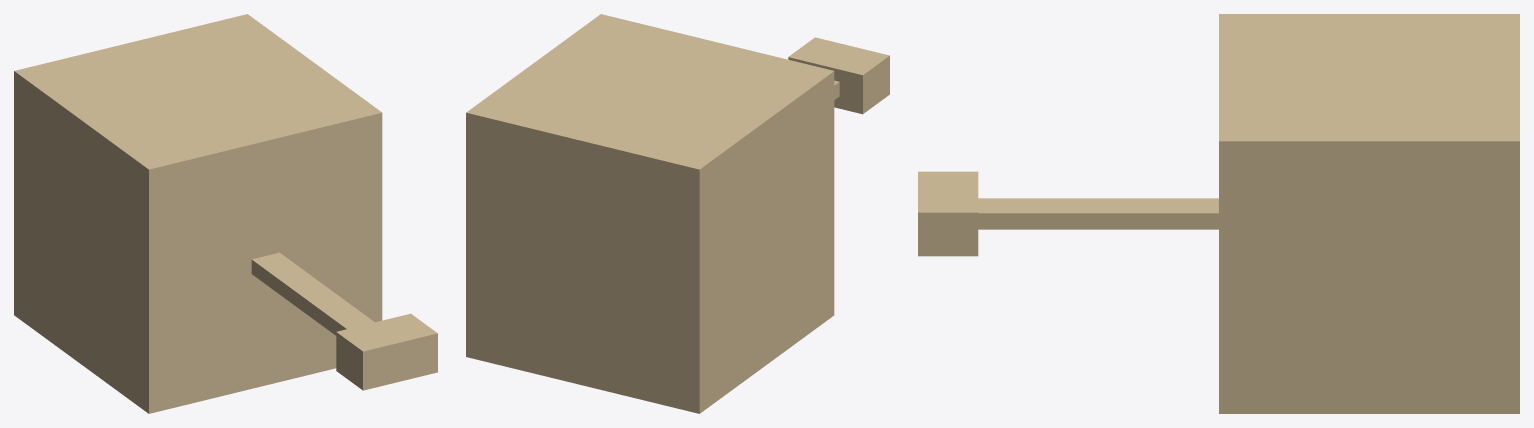
File: ref_cube_1m.glb
3 renders of one model, left to right at view 1: azimuth 30°, elevation 25°; view 2: azimuth 150°, elevation 25°; view 3: azimuth 270°, elevation 25°, orthographic. The views are drawn at different scales.
Visible parts, largest first — view 1: ref_cube_1m; view 2: ref_cube_1m; view 3: ref_cube_1m.
Part boxes in pixels (x1=…): ref_cube_1m: x1=14, y1=14, x2=437, y2=413; ref_cube_1m: x1=466, y1=14, x2=889, y2=413; ref_cube_1m: x1=918, y1=14, x2=1519, y2=413.
Size of the model in its own units: 1 by 1 by 2.
